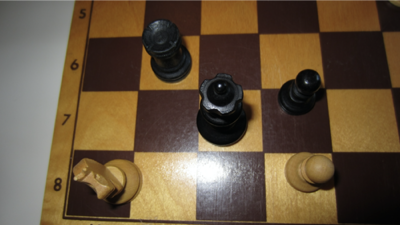black-pawn: (278, 68, 323, 116)
black-queen: (196, 73, 250, 148)
black-rook: (142, 18, 193, 84)
white-knight: (72, 158, 144, 206)
white-pawn: (285, 152, 336, 194)
